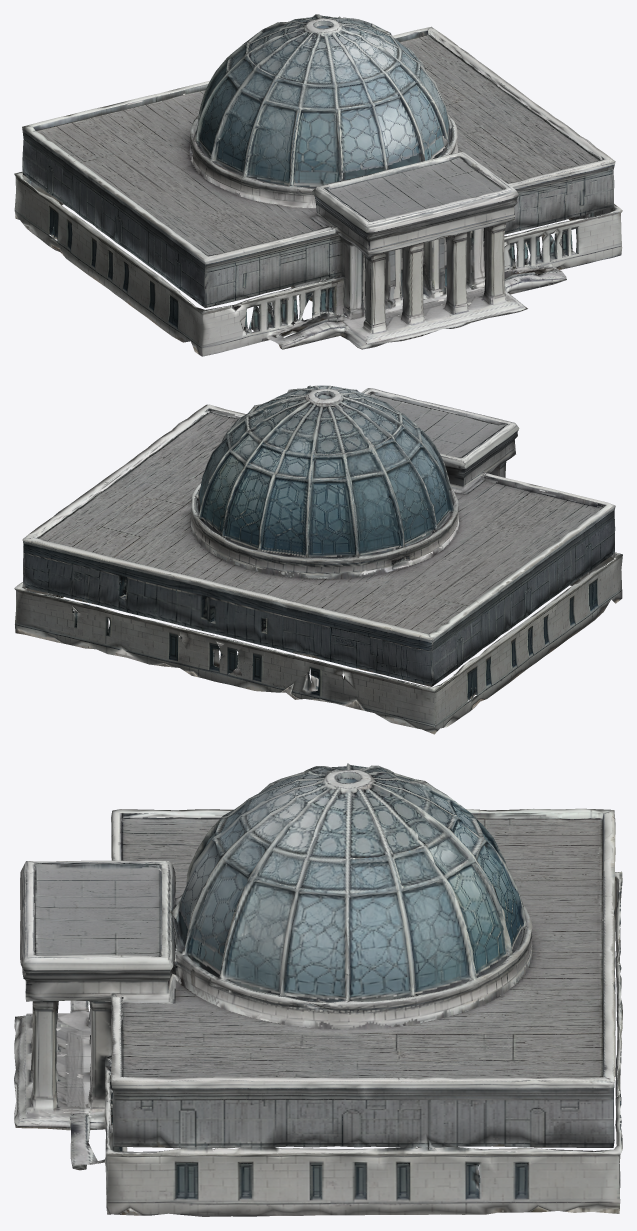
The model's file is ColonyCivicHall.fbx.
3 renders of one model, top to bottom at view 1: azimuth 30°, elevation 25°; view 2: azimuth 150°, elevation 25°; view 3: azimuth 270°, elevation 25°, orthographic. The views are drawn at different scales.
Visible parts, largest first — view 1: texture_mapping; view 2: texture_mapping; view 3: texture_mapping.
Boxes of the visible parts, left/top/right/bottom form: texture_mapping: left=14, top=14, right=622, bottom=356; texture_mapping: left=14, top=385, right=622, bottom=734; texture_mapping: left=14, top=763, right=622, bottom=1216.
Size of the model in its own units: 1 by 0.9128 by 0.4936.
1 material, 1 textured.
